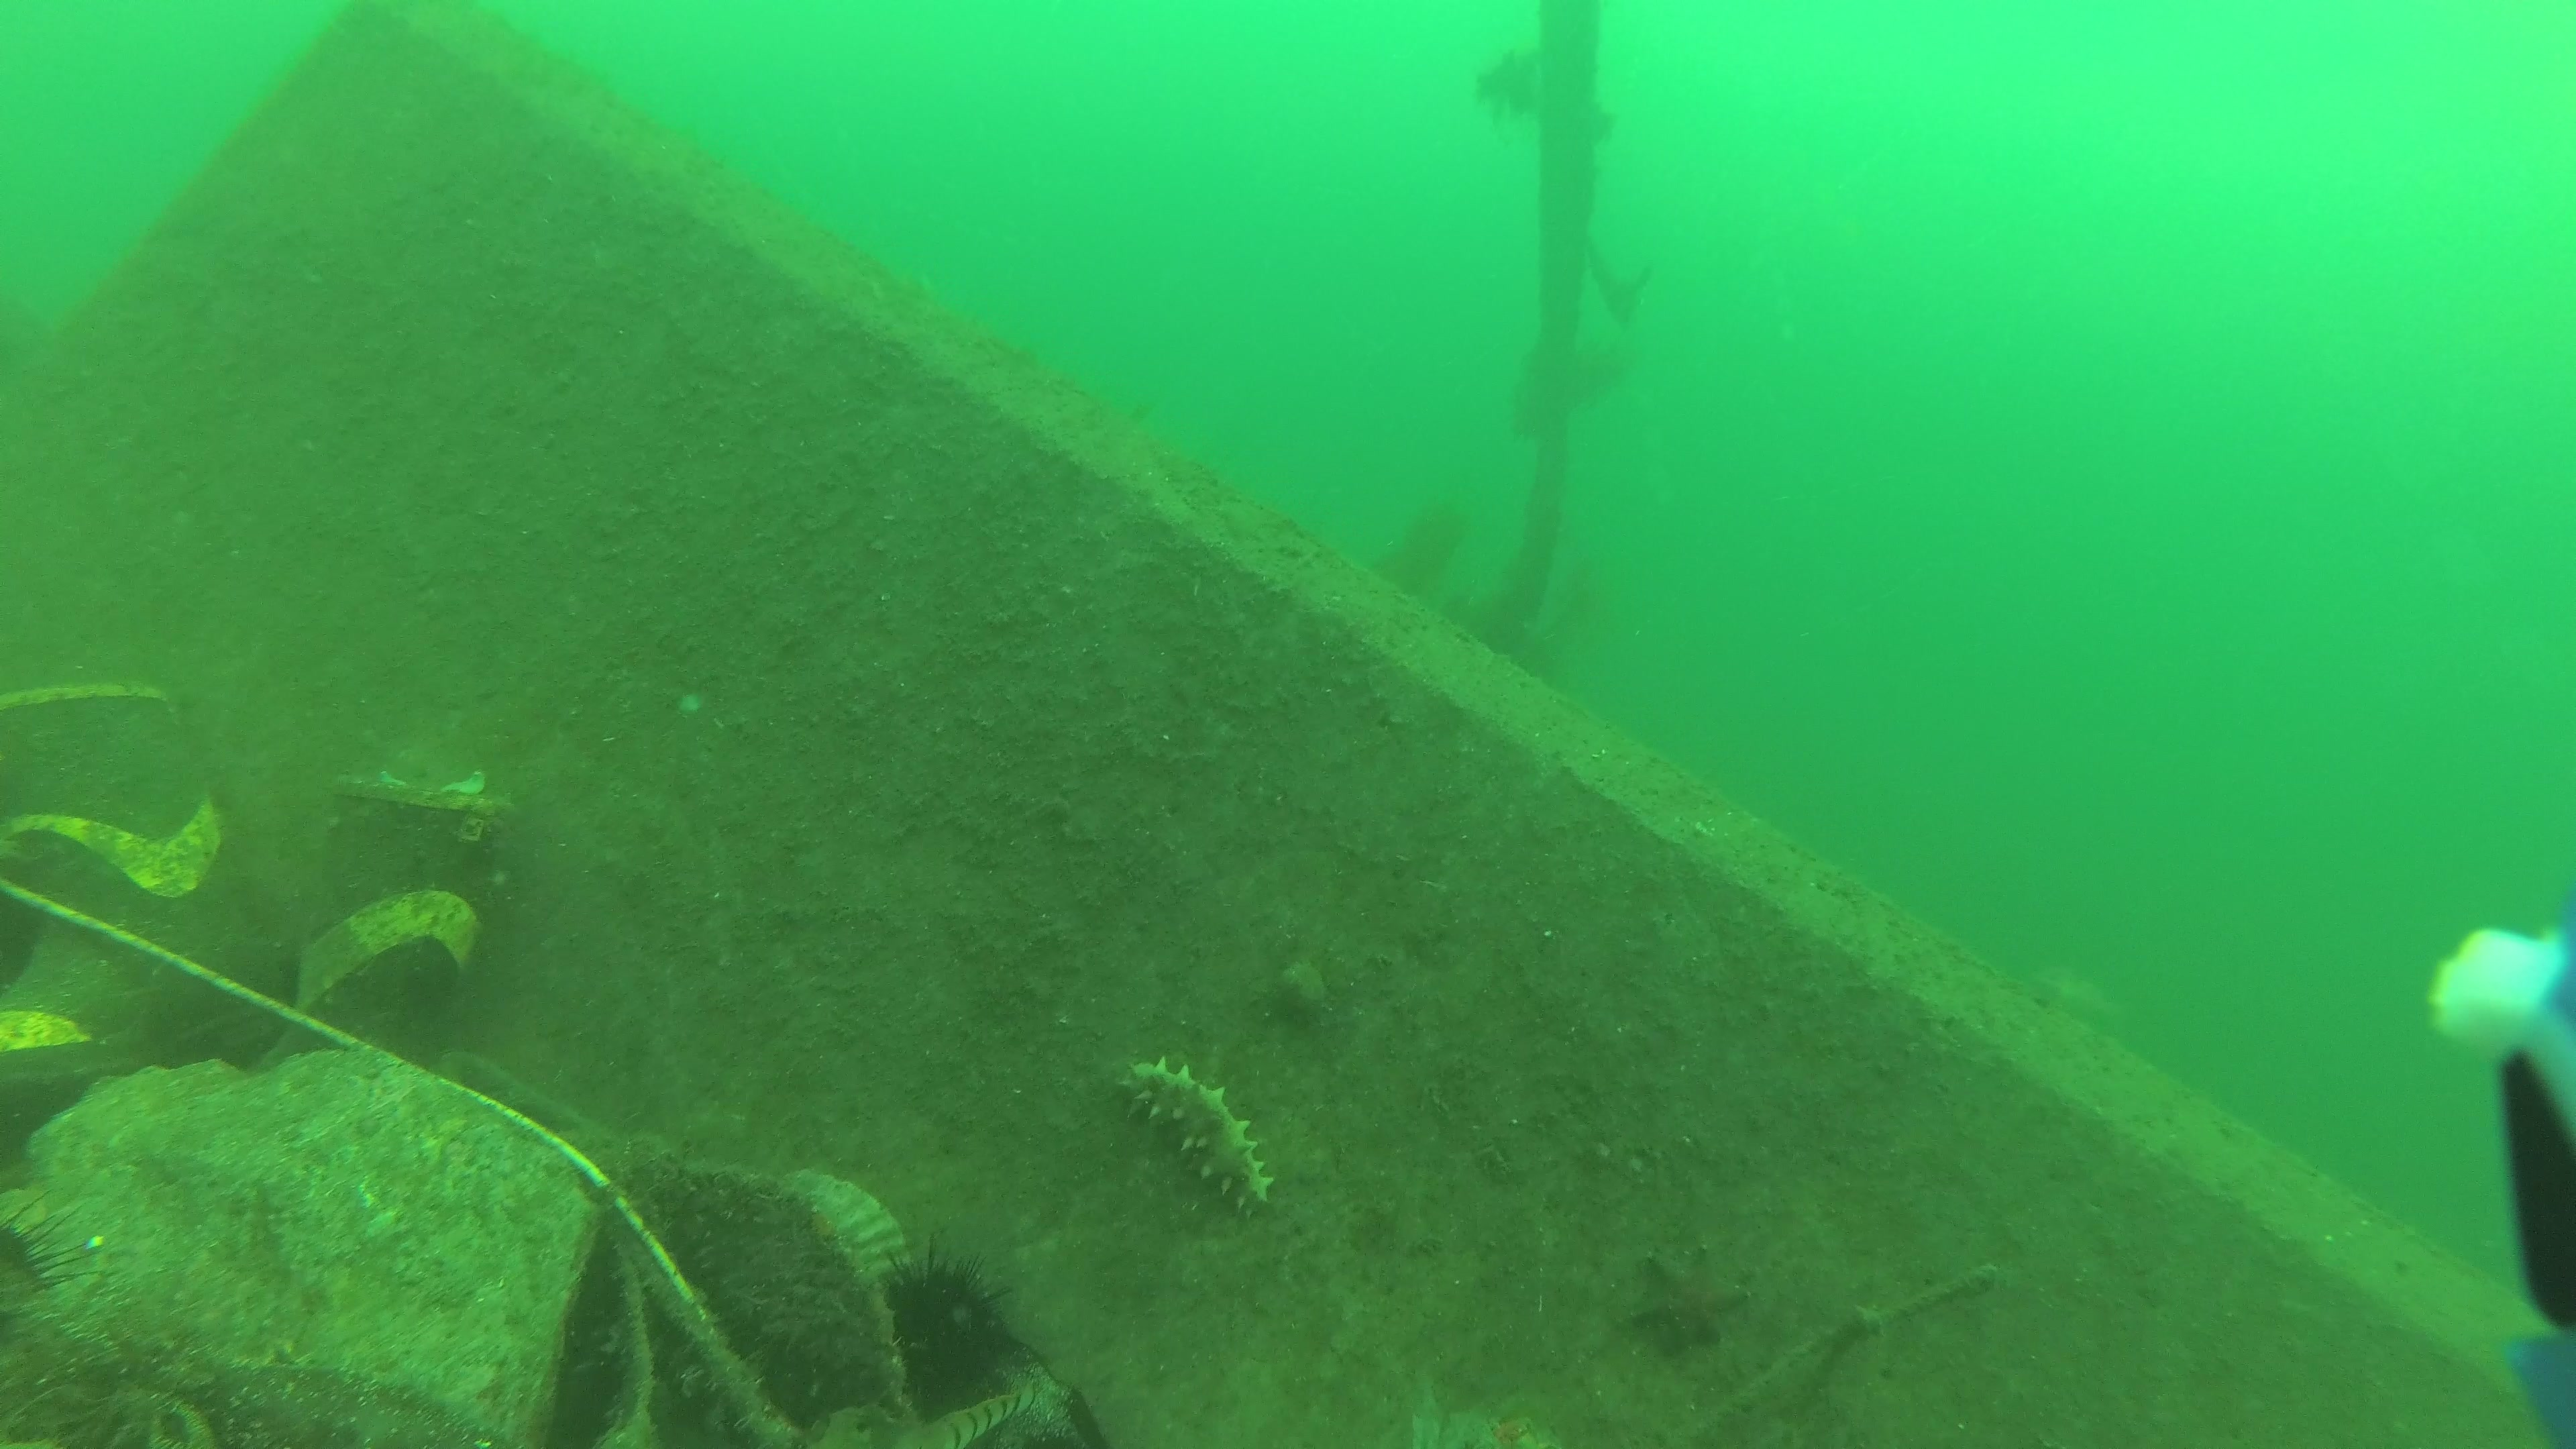echinus: (879, 1231, 1016, 1407), (0, 1191, 106, 1302)
holothurian: (1116, 1058, 1281, 1221)
starfish: (1629, 1246, 1753, 1353)
